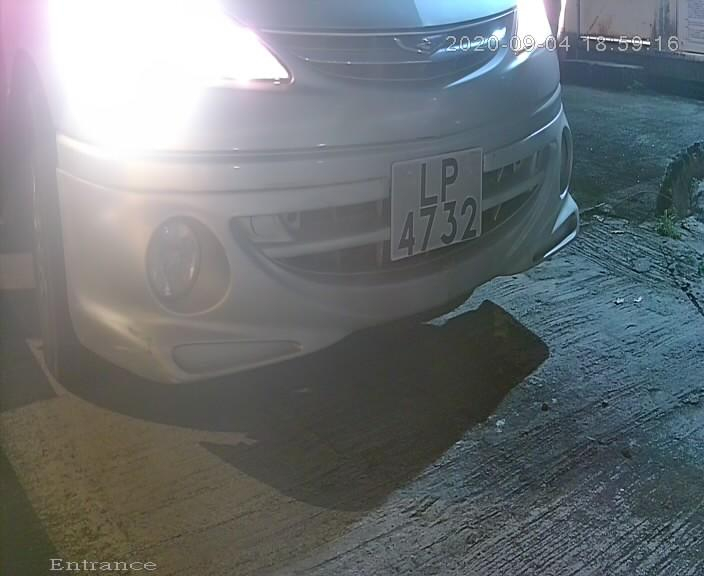License Plate: (373, 134, 491, 278)
